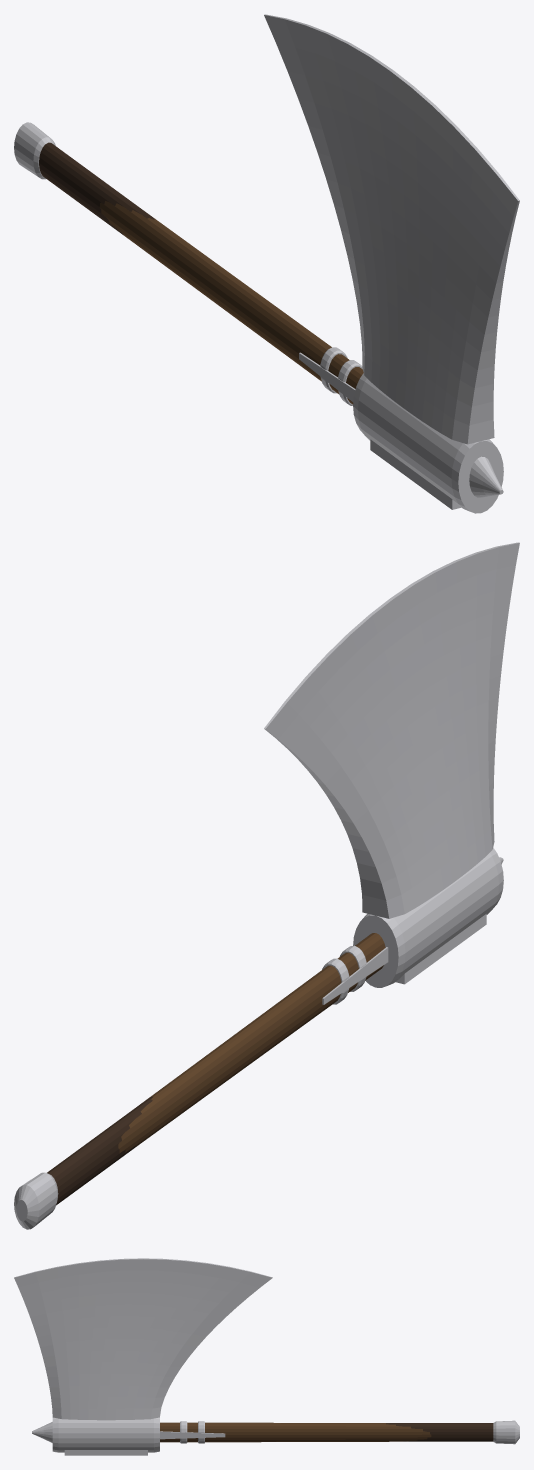
Rendered from weapon_axe.glb.
3 renders of one model, top to bottom at view 1: azimuth 30°, elevation 25°; view 2: azimuth 150°, elevation 25°; view 3: azimuth 270°, elevation 25°, orthographic. The views are drawn at different scales.
Visible parts, largest first — view 1: axe; view 2: axe; view 3: axe.
Part boxes in pixels (box(x1,y1,x2,y2)): axe: box(14, 14, 519, 513); axe: box(14, 542, 519, 1229); axe: box(14, 1258, 519, 1455).
Bounding box in the file's own units: 0.0482 × 0.358 × 0.85.
